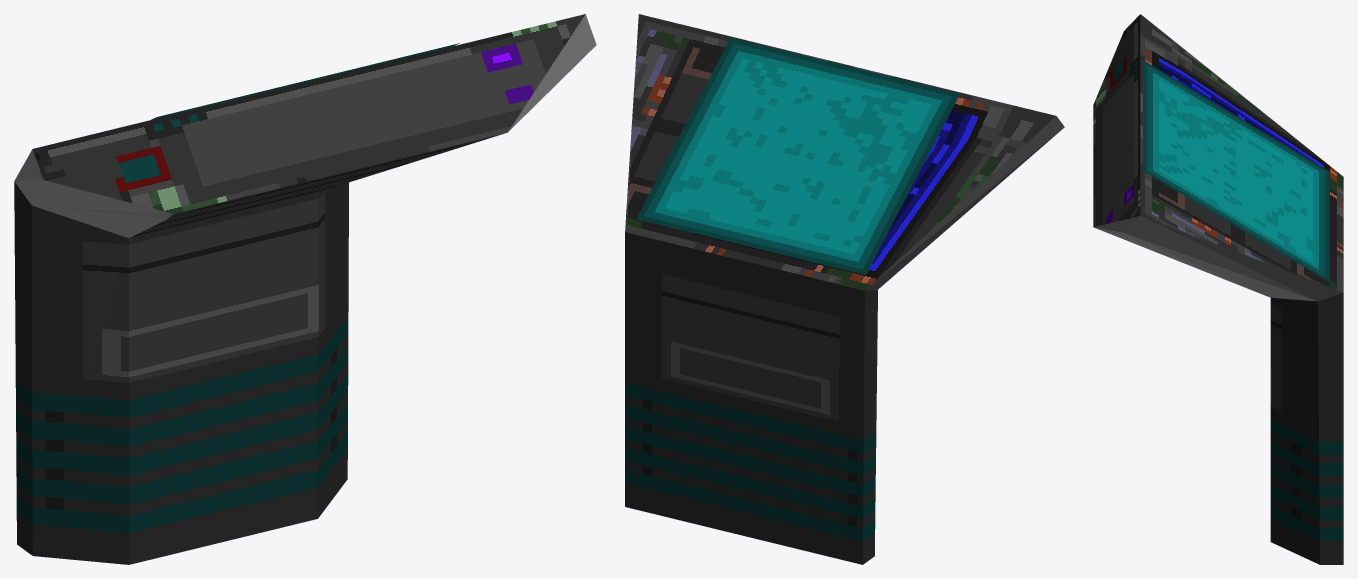
The picture shows the model from 3 angles, left to right: view 1: azimuth 30°, elevation 25°; view 2: azimuth 150°, elevation 25°; view 3: azimuth 270°, elevation 25°; orthographic projection. The views are drawn at different scales.
Parts seen in each view (by area): view 1: ss3d_31_controlped; view 2: ss3d_31_controlped; view 3: ss3d_31_controlped.
Boxes of the visible parts, x1,y1,x2,y2 form: ss3d_31_controlped: (14,14,596,564); ss3d_31_controlped: (625,14,1064,564); ss3d_31_controlped: (1093,14,1343,564).
Size of the model in its own units: 0.7102 by 0.6434 by 0.3727.
1 material, 1 textured.
